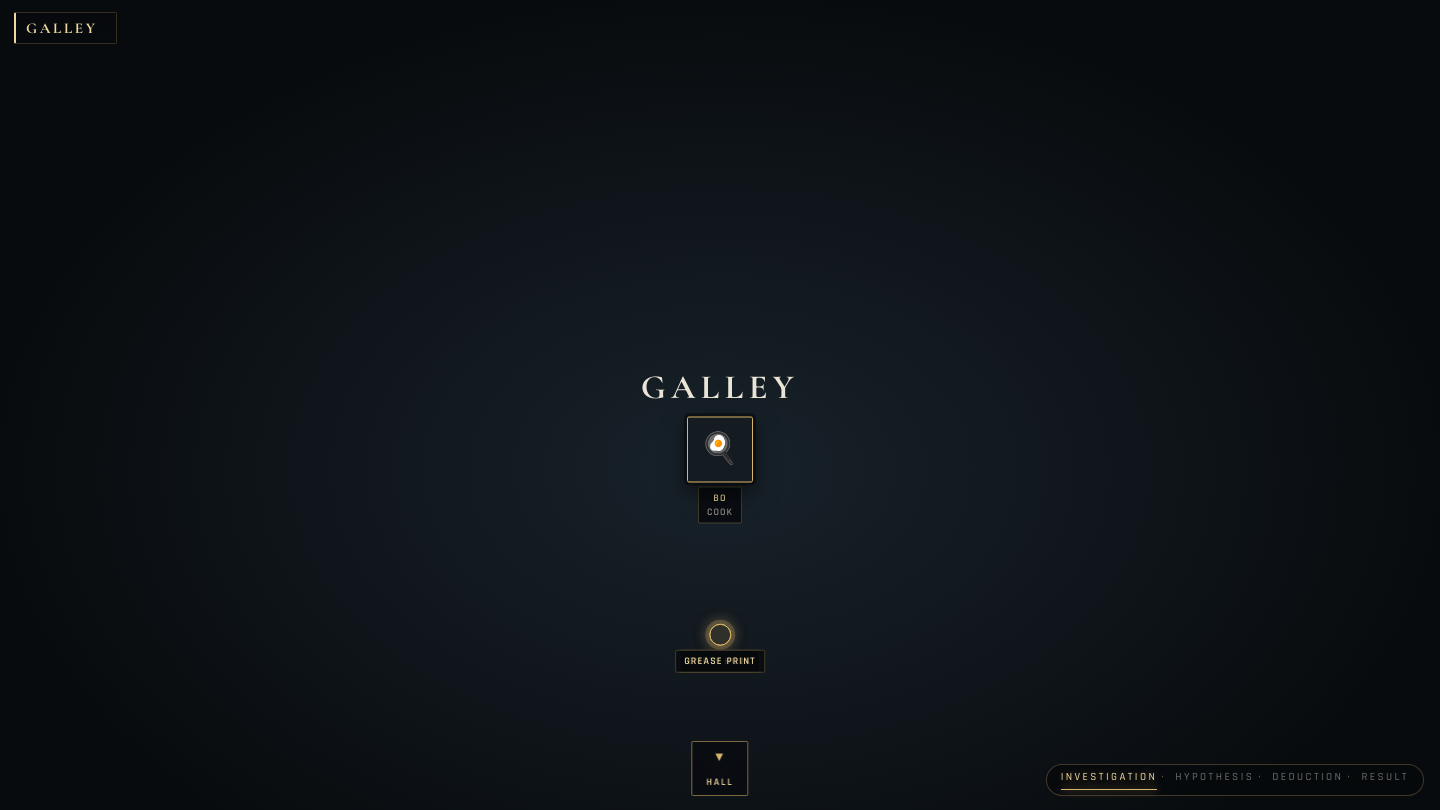
talk rail folds long topic lists › the tutorial goal topic is never behind the fold
Click the button "🍳 Bo Cook": (720, 470) x1=687 y1=416 x2=753 y2=523
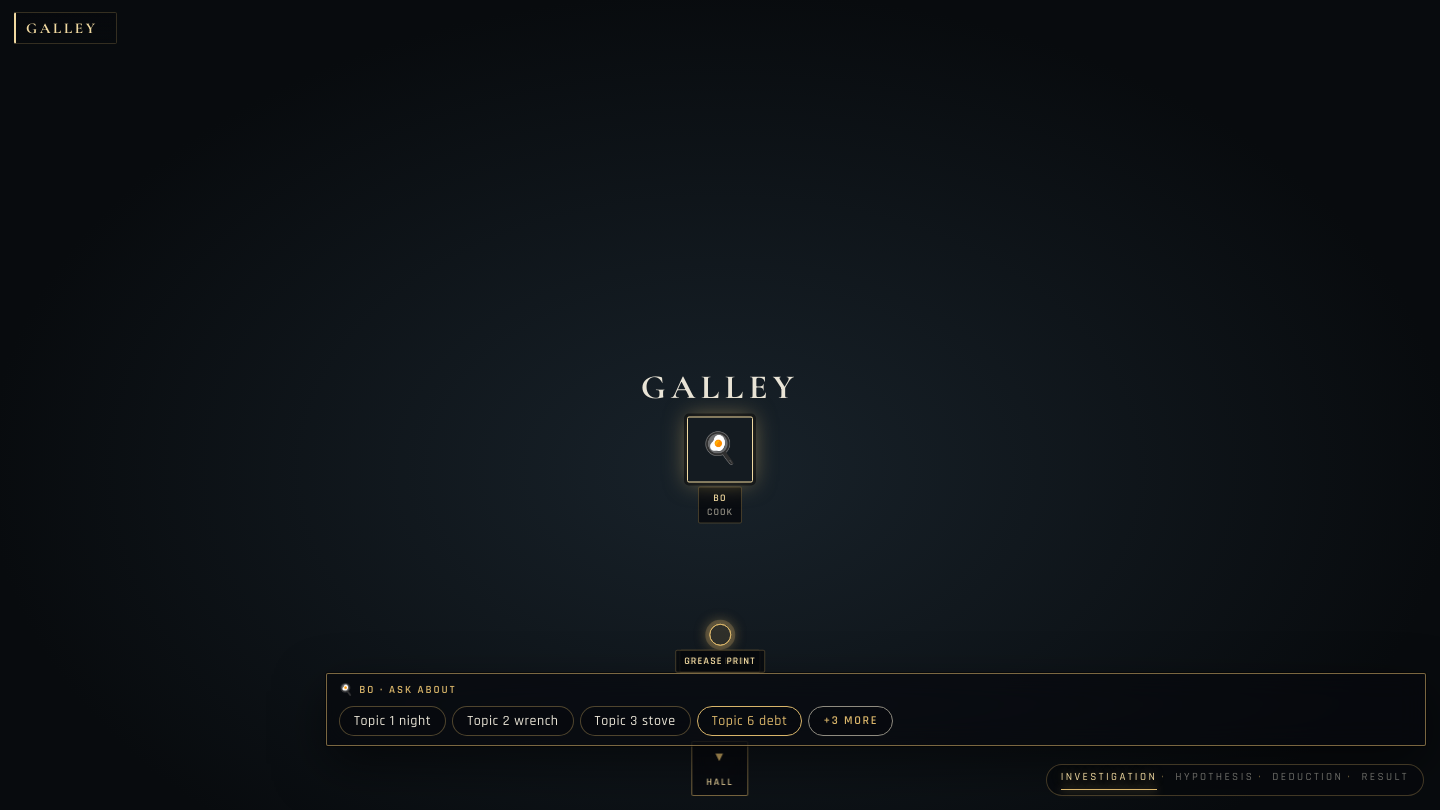
Now the button with class "topic" reads "Topic 6 debt", box x1=697 y1=706 x2=802 y2=736
Now the button "+3 more" is shown, box x1=808 y1=706 x2=893 y2=736
